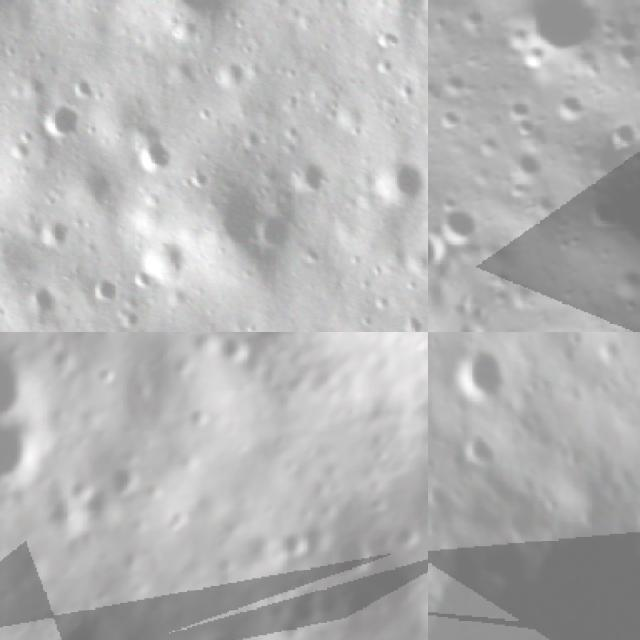crater: (428, 487, 640, 640), (501, 0, 612, 70), (448, 338, 516, 408), (430, 192, 493, 255), (0, 338, 39, 424), (0, 414, 43, 491), (323, 535, 378, 581), (45, 609, 125, 640), (371, 160, 425, 197), (134, 244, 180, 285), (100, 461, 146, 502), (36, 101, 77, 146), (463, 427, 501, 471), (274, 529, 310, 571), (596, 332, 628, 373), (389, 520, 425, 556), (254, 210, 288, 248), (137, 140, 174, 173), (27, 288, 64, 316), (88, 266, 114, 303), (46, 222, 74, 250), (428, 483, 448, 512)
